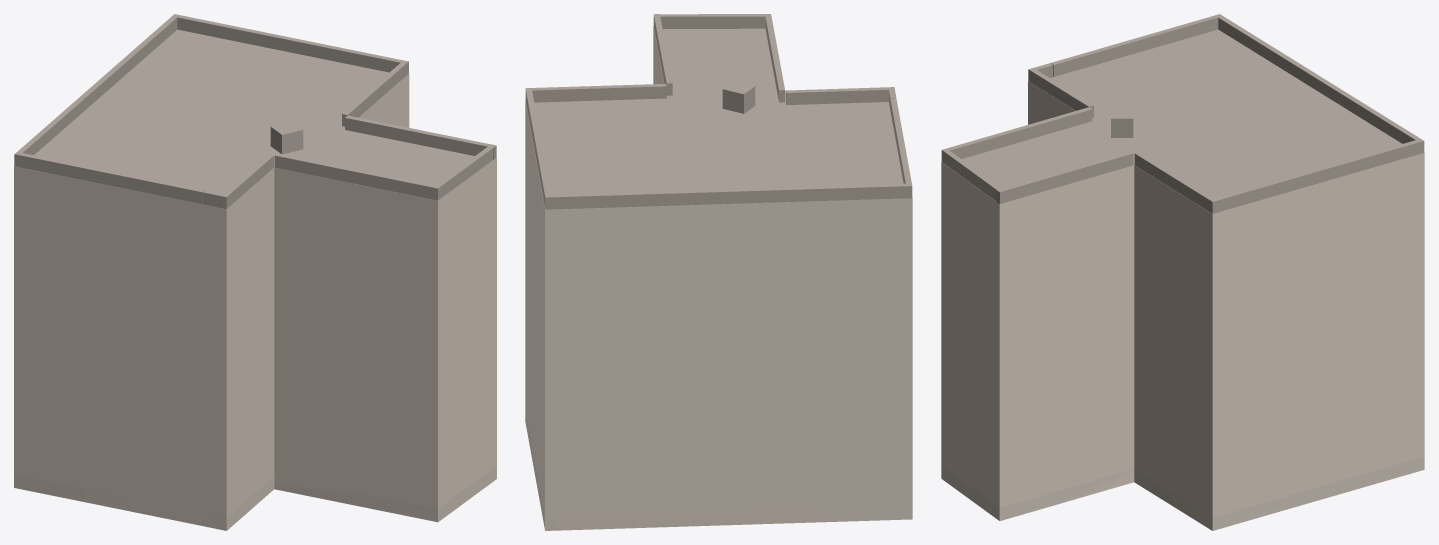
Rendered from cop_misto_loja_terrea_02__way_488128337.fbx.
3 views of the same model, side by side, from view 1: azimuth 30°, elevation 25°; view 2: azimuth 150°, elevation 25°; view 3: azimuth 270°, elevation 25° (orthographic).
Parts seen in each view (by area): view 1: cop_misto_loja_terrea_02__way_488128337_wall, cop_misto_loja_terrea_02__way_488128337_roof, cop_misto_loja_terrea_02__way_488128337_stone; view 2: cop_misto_loja_terrea_02__way_488128337_wall, cop_misto_loja_terrea_02__way_488128337_roof, cop_misto_loja_terrea_02__way_488128337_stone; view 3: cop_misto_loja_terrea_02__way_488128337_wall, cop_misto_loja_terrea_02__way_488128337_roof, cop_misto_loja_terrea_02__way_488128337_stone.
Boxes of the visible parts, <box> form: cop_misto_loja_terrea_02__way_488128337_wall: <box>14,74,496,530</box>; cop_misto_loja_terrea_02__way_488128337_roof: <box>14,14,496,209</box>; cop_misto_loja_terrea_02__way_488128337_stone: <box>14,466,496,530</box>; cop_misto_loja_terrea_02__way_488128337_wall: <box>525,26,912,530</box>; cop_misto_loja_terrea_02__way_488128337_roof: <box>525,14,912,209</box>; cop_misto_loja_terrea_02__way_488128337_stone: <box>525,409,911,530</box>; cop_misto_loja_terrea_02__way_488128337_wall: <box>941,81,1424,530</box>; cop_misto_loja_terrea_02__way_488128337_roof: <box>941,14,1424,213</box>; cop_misto_loja_terrea_02__way_488128337_stone: <box>941,457,1424,530</box>.
Bounding box in the file's own units: 2295 × 1912 × 2488.
